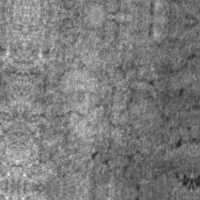crazing: (105, 67, 172, 138), (20, 78, 105, 124)
